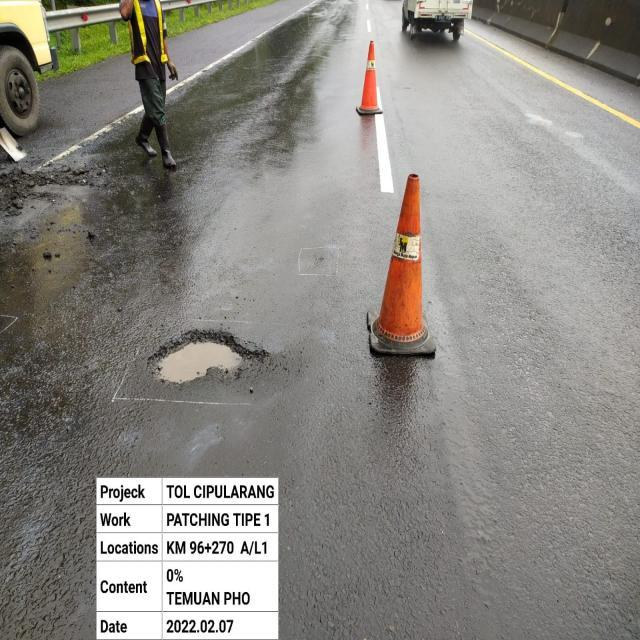Buraco: (144, 327, 274, 388)
